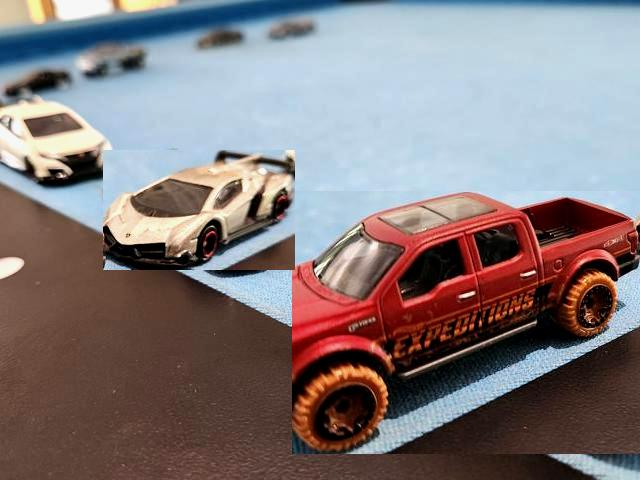toy-car: (292, 192, 640, 455), (103, 150, 295, 270), (0, 102, 113, 188)
